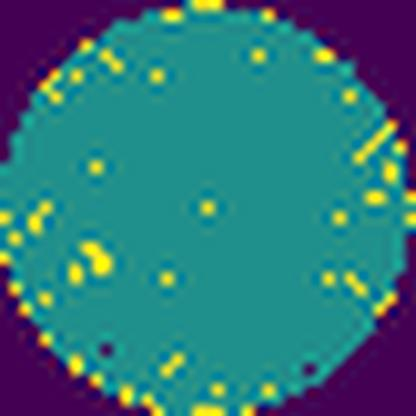Loc: (81, 243, 115, 274)
